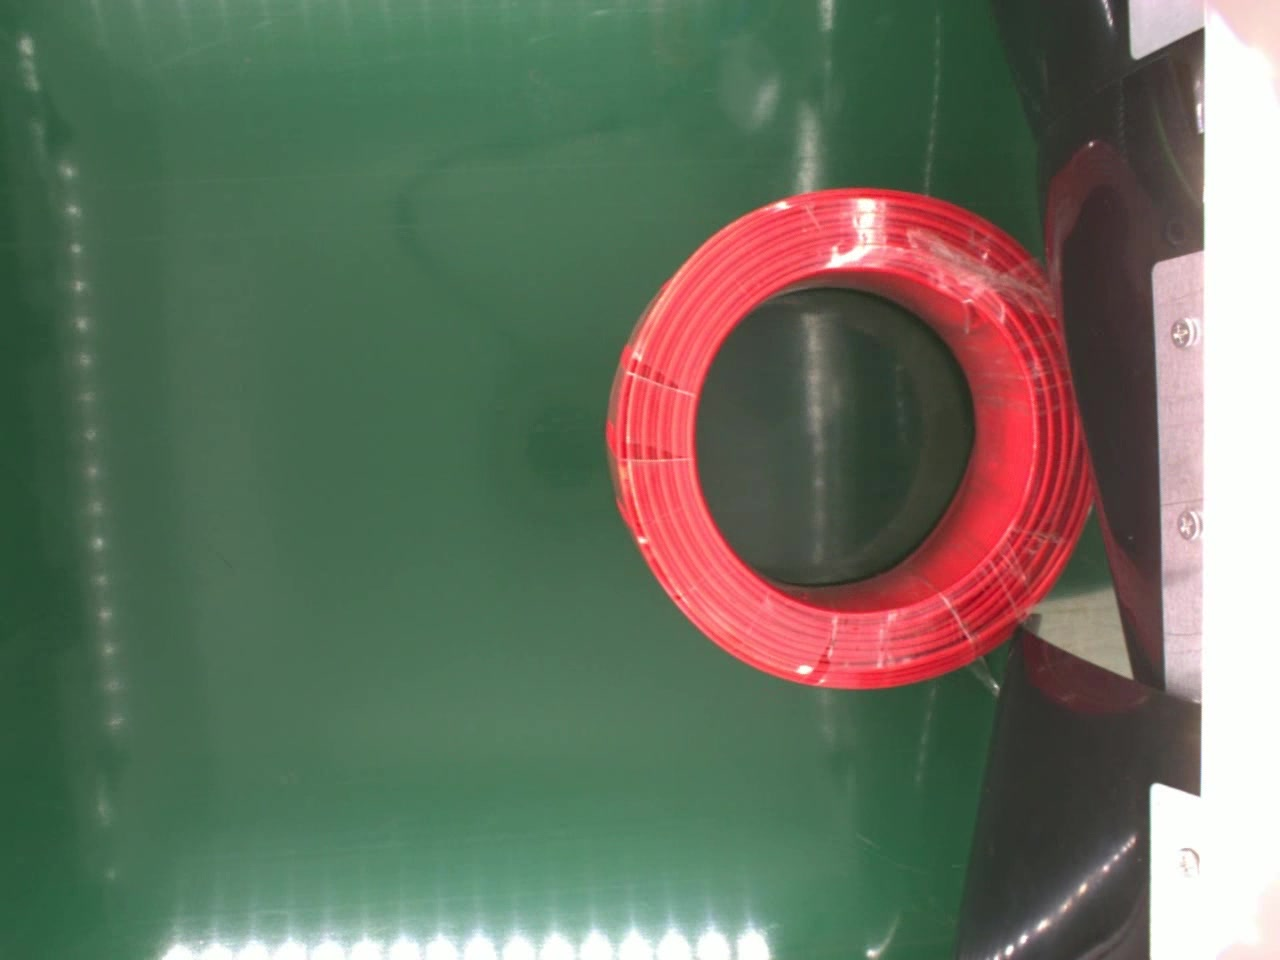red: (604, 186, 1095, 689)
